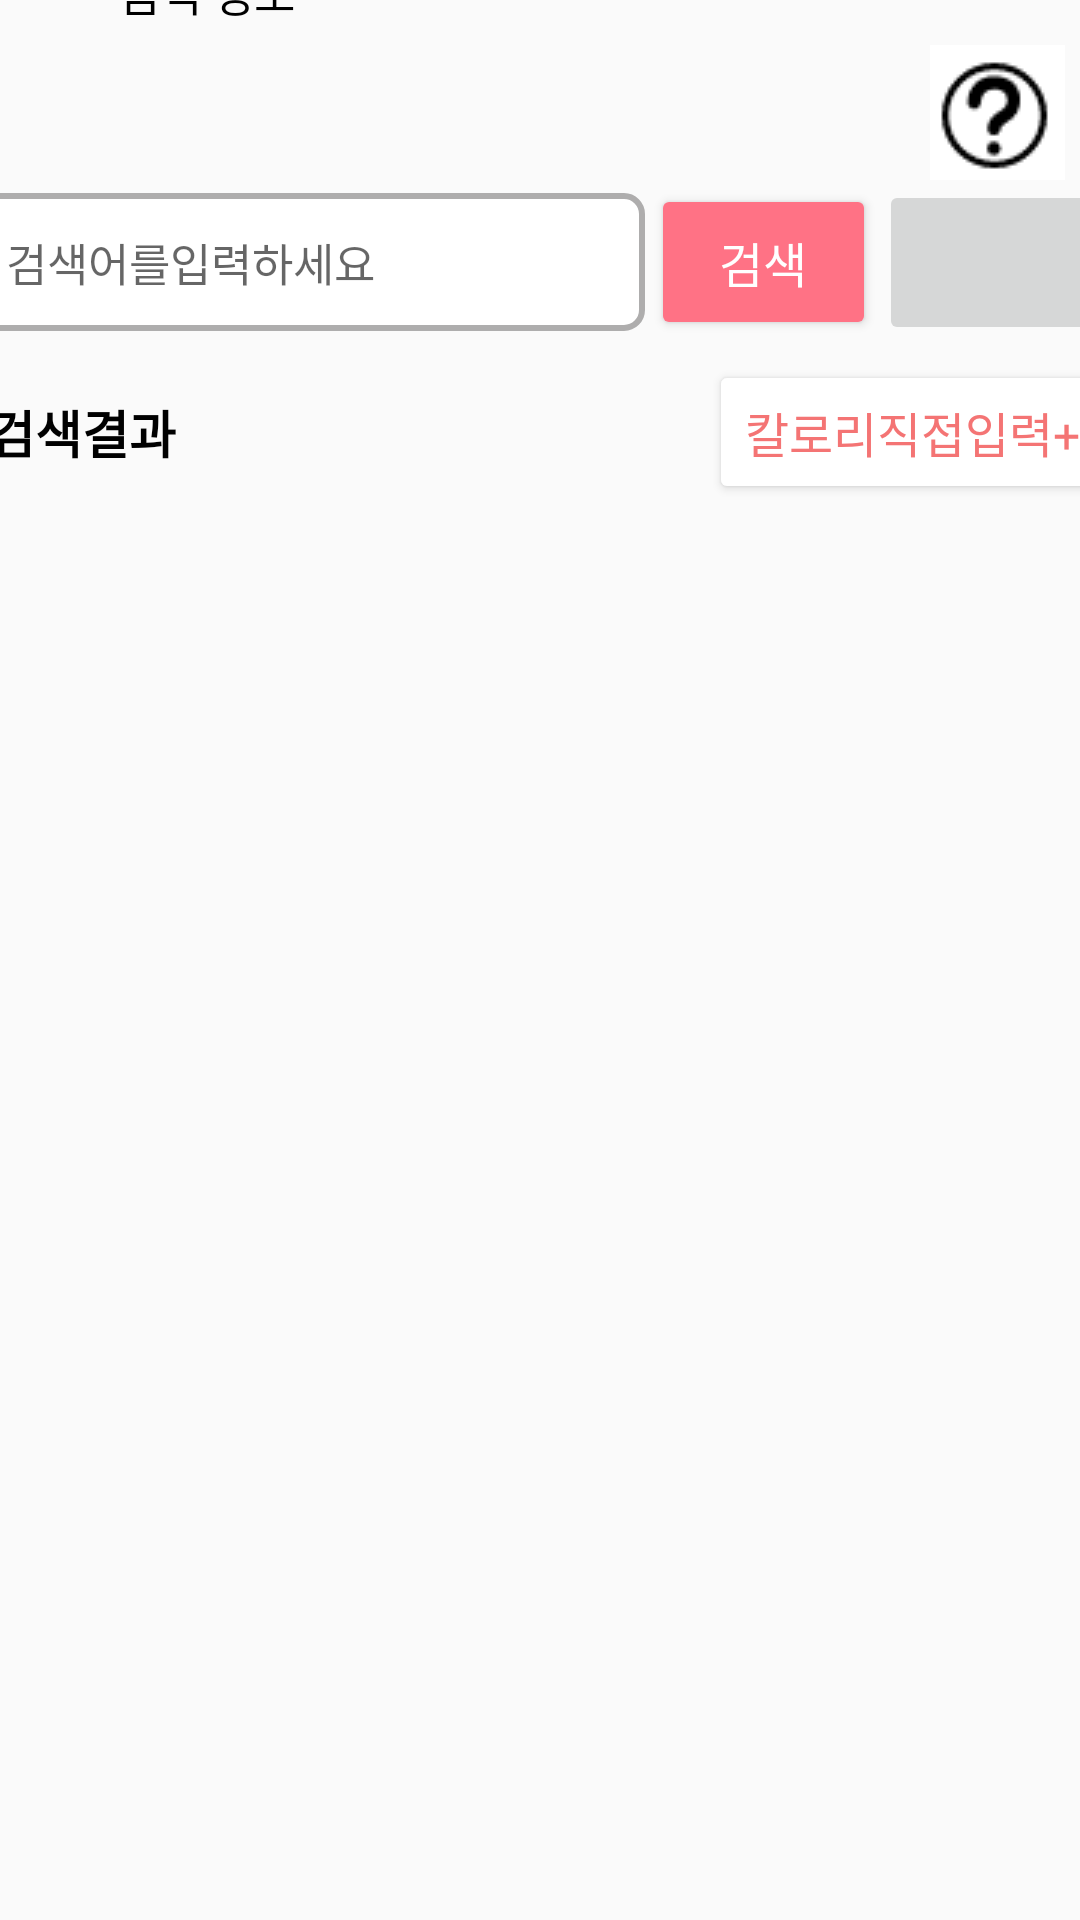

Screen size 1080×1920. Icon name, then its box in pixels as bbox=[x1, y1, x2, y2]:
question: bbox=[941, 62, 1048, 169]
